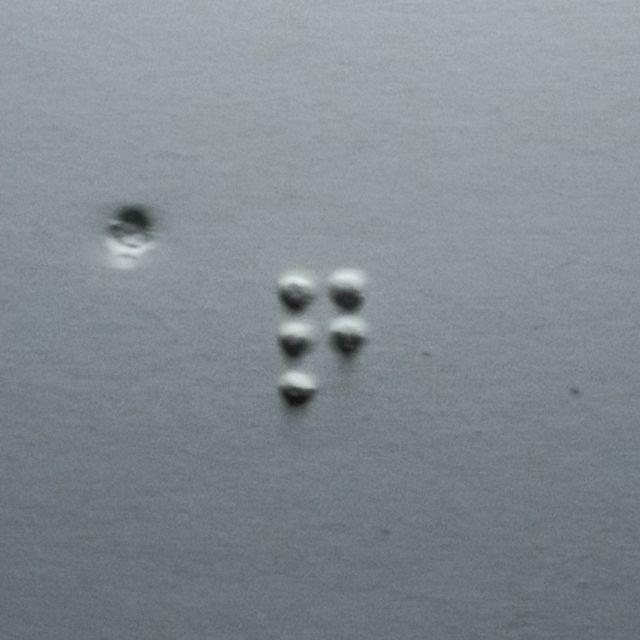kailan: (277, 269, 368, 408)
